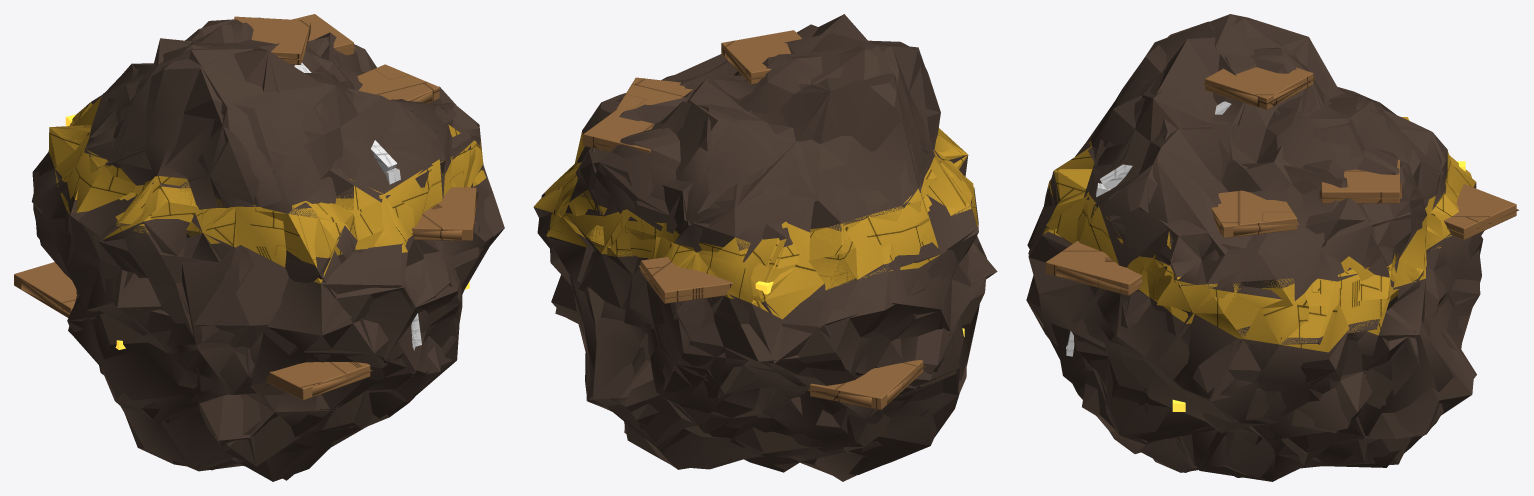
Rendered from place_rock_junk_pebble.glb.
3 views of the same model, side by side, from view 1: azimuth 30°, elevation 25°; view 2: azimuth 150°, elevation 25°; view 3: azimuth 270°, elevation 25° (orthographic).
Visible parts, largest first — view 1: LOD2_Stone, LOD0_Stone, LOD1_Stone, LOD0_BrushedMetal, LOD2_Warning, LOD0_Warning, LOD1_Warning, LOD2_BrushedMetal, LOD0_MechanicalDark; view 2: LOD0_Stone, LOD2_Stone, LOD1_Stone, LOD2_Warning, LOD0_BrushedMetal, LOD0_Warning, LOD1_Warning, LOD2_BrushedMetal; view 3: LOD2_Stone, LOD0_Stone, LOD1_Stone, LOD0_BrushedMetal, LOD2_Warning, LOD0_Warning, LOD1_Warning, LOD2_BrushedMetal, LOD0_MechanicalDark.
Part boxes in pixels (x1=…): LOD2_Stone: x1=32, y1=17, x2=494, y2=480; LOD0_Stone: x1=31, y1=19, x2=504, y2=481; LOD1_Stone: x1=32, y1=19, x2=504, y2=481; LOD0_BrushedMetal: x1=14, y1=14, x2=476, y2=400; LOD2_Warning: x1=52, y1=96, x2=483, y2=283; LOD0_Warning: x1=49, y1=106, x2=486, y2=258; LOD1_Warning: x1=48, y1=102, x2=483, y2=267; LOD2_BrushedMetal: x1=21, y1=26, x2=478, y2=396; LOD0_MechanicalDark: x1=294, y1=62, x2=421, y2=350; LOD0_Stone: x1=537, y1=14, x2=997, y2=475; LOD2_Stone: x1=533, y1=14, x2=989, y2=481; LOD1_Stone: x1=538, y1=25, x2=984, y2=475; LOD2_Warning: x1=533, y1=128, x2=978, y2=319; LOD0_BrushedMetal: x1=583, y1=30, x2=923, y2=409; LOD0_Warning: x1=544, y1=147, x2=974, y2=302; LOD1_Warning: x1=545, y1=131, x2=969, y2=318; LOD2_BrushedMetal: x1=581, y1=48, x2=925, y2=407; LOD2_Stone: x1=1027, y1=14, x2=1481, y2=481; LOD0_Stone: x1=1026, y1=18, x2=1484, y2=478; LOD1_Stone: x1=1028, y1=57, x2=1482, y2=481; LOD0_BrushedMetal: x1=1045, y1=67, x2=1516, y2=295; LOD2_Warning: x1=1046, y1=140, x2=1475, y2=352; LOD0_Warning: x1=1048, y1=117, x2=1471, y2=337; LOD1_Warning: x1=1042, y1=117, x2=1470, y2=344; LOD2_BrushedMetal: x1=1056, y1=77, x2=1519, y2=291; LOD0_MechanicalDark: x1=1066, y1=101, x2=1231, y2=356.
Size of what is drawn, in the model's own units: 5.51 by 5.76 by 6.04.
5 materials, 3 textured.
